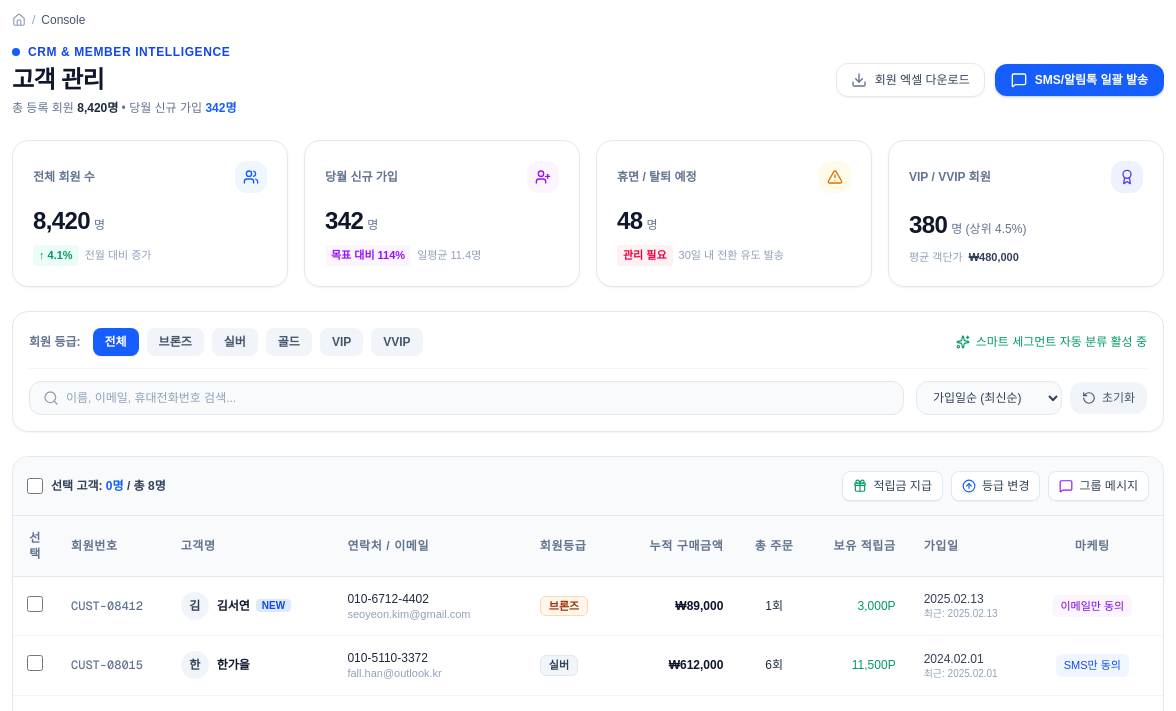
Test: CustomerView Presentation Component › should filter customers when grade tabs are clicked
The image size is (1176, 711).
Note: Click 'VIP' tab
Click the button "VIP" at (342, 342), box [320,328,363,356]
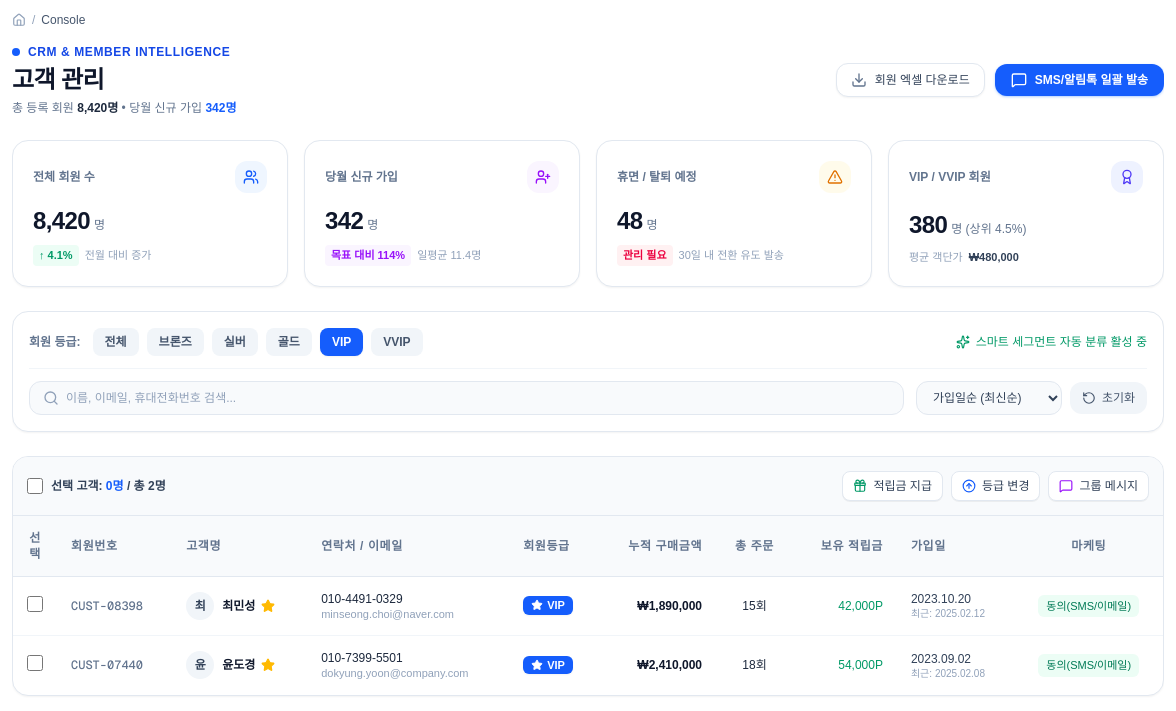
Expected: the row with test id "customer-row" that starts with "CUST-08398" is shown, [13,576,1163,636]
Result: the link "김서연" is gone
